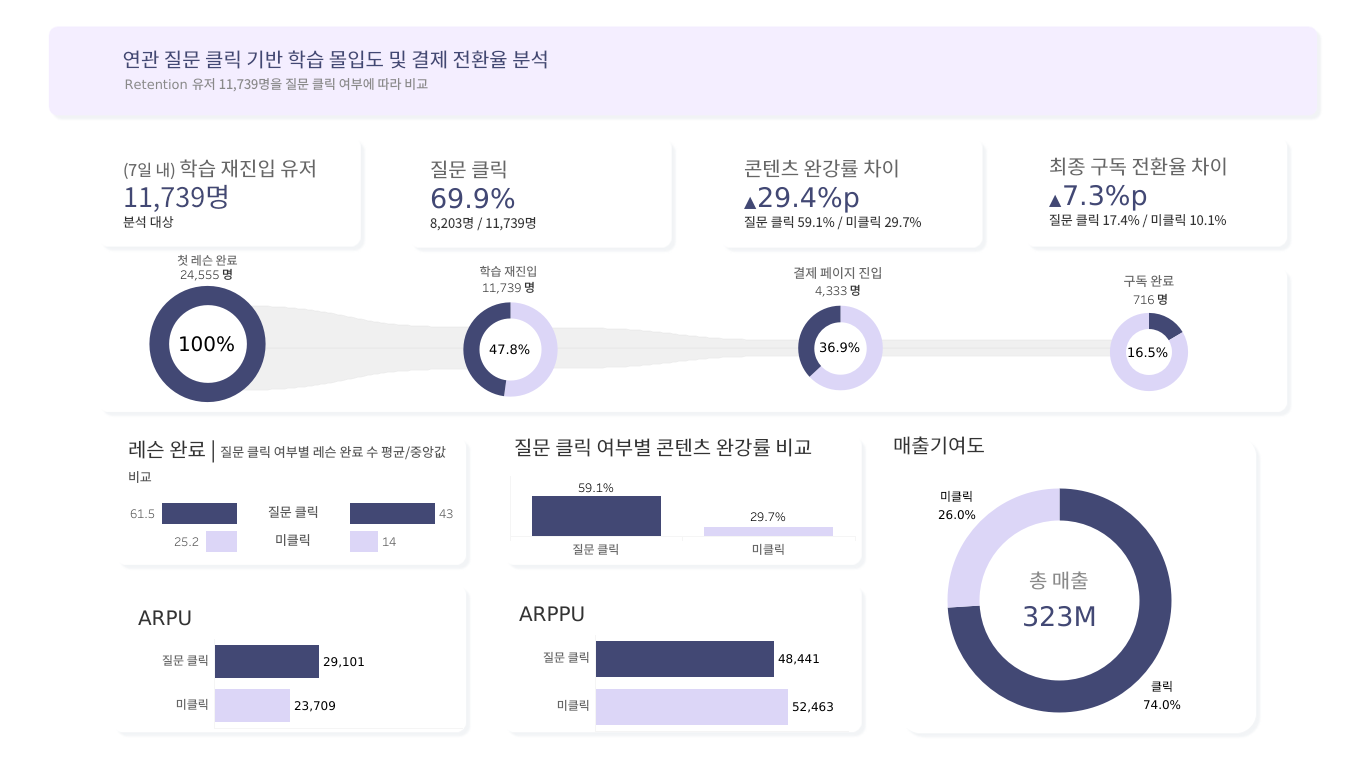

The dashboard page shown, as its layout file describes it:
{"tool":"tableau","page":{"name":"연관 질문 클릭 기반 학습 몰입도 및 결제 전환율 분석 대시보드","canvas":[1366,768],"ordinal":0},"visuals":[{"type":"image","param":"Image/tableau_dashboard_templete.png","box":[8,8,1350,752]},{"type":"text","box":[120,25,594,76]},{"type":"text","box":[122,71,366,30]},{"type":"worksheet","title":"최종 구독 전환율 차이 KPI","mark":"Automatic","box":[1045,155,225,75]},{"type":"worksheet","title":"재진입 유저 KPI","mark":"Automatic","box":[119,157,225,75]},{"type":"worksheet","title":"콘텐츠 완강률 차이 KPI","mark":"Automatic","box":[740,157,225,75]},{"type":"worksheet","title":"질문 클릭율 KPI","mark":"Automatic","box":[426,158,225,75]},{"type":"text","box":[144,245,127,30]},{"type":"text","box":[442,256,133,30]},{"type":"worksheet","title":"첫 레슨 완강 유저 텍스트","mark":"Automatic","box":[153,257,109,35]},{"type":"text","box":[788,258,100,30]},{"type":"text","box":[1099,266,100,30]},{"type":"worksheet","title":"첫 레슨 완강 파이 차트","mark":"Automatic","rows":["Calculation_1214137154441233","Calculation_1214137154441233"],"box":[111,268,193,152]},{"type":"worksheet","title":"학습 재진입 파이 차트","mark":"Automatic","rows":["Calculation_1214137154441233","Calculation_1214137154441233"],"box":[413,269,195,161]},{"type":"worksheet","title":"학습 재진입 유저 텍스트","mark":"Automatic","box":[456,272,107,31]},{"type":"worksheet","title":"결제 페이지 진입 텍스트","mark":"Automatic","box":[790,276,96,28]},{"type":"worksheet","title":"구독 텍스트","mark":"Automatic","box":[1109,286,84,27]},{"type":"worksheet","title":"결제 페이지 진입 파이 차트","mark":"Automatic","rows":["Calculation_1214137154441233","Calculation_1214137154441233"],"box":[753,287,176,122]},{"type":"worksheet","title":"구독 완료 파이 차트","mark":"Automatic","rows":["Calculation_1214137154441233","Calculation_1214137154441233"],"box":[1065,295,168,114]},{"type":"worksheet","title":"퍼널 배경","mark":"Area","cols":["Calculation_1214137152552970"],"box":[133,301,1083,94]},{"type":"worksheet","title":"매출 기여도 파이차트","mark":"Pie","rows":["Calculation_1214137170251803","Calculation_1214137170251803"],"box":[889,428,341,299]},{"type":"worksheet","title":"콘텐츠 완강률 막대","mark":"Automatic","rows":["completed_users"],"cols":["question_status"],"box":[510,430,345,128]},{"type":"worksheet","title":"레슨 완강률 평균/중앙값 막대","mark":"Automatic","rows":["question_status"],"cols":["Calculation_1214137167826968","Calculation_1214137167798295","Calculation_1214137172131868"],"box":[124,432,340,123]},{"type":"worksheet","title":"ARPPU 막대","mark":"Automatic","rows":["question_status"],"cols":["ARPPU (원)"],"box":[515,596,333,135]},{"type":"worksheet","title":"ARPU 막대","mark":"Automatic","rows":["question_status"],"cols":["ARPU (원)"],"box":[134,600,328,128]}]}

Visuals, with their boxes in screenshot pixels (x1, y1, x2, y2), scaled from the page's 1366x768 canvas onto the 1365x767 screenshot:
image: (x1=8, y1=8, x2=1357, y2=759)
text: (x1=120, y1=25, x2=713, y2=101)
text: (x1=122, y1=71, x2=488, y2=101)
"최종 구독 전환율 차이 KPI" worksheet: (x1=1044, y1=155, x2=1269, y2=230)
"재진입 유저 KPI" worksheet: (x1=119, y1=157, x2=344, y2=232)
"콘텐츠 완강률 차이 KPI" worksheet: (x1=739, y1=157, x2=964, y2=232)
"질문 클릭율 KPI" worksheet: (x1=426, y1=158, x2=651, y2=233)
text: (x1=144, y1=245, x2=271, y2=275)
text: (x1=442, y1=256, x2=575, y2=286)
"첫 레슨 완강 유저 텍스트" worksheet: (x1=153, y1=257, x2=262, y2=292)
text: (x1=787, y1=258, x2=887, y2=288)
text: (x1=1098, y1=266, x2=1198, y2=296)
"첫 레슨 완강 파이 차트" worksheet: (x1=111, y1=268, x2=304, y2=419)
"학습 재진입 파이 차트" worksheet: (x1=413, y1=269, x2=608, y2=429)
"학습 재진입 유저 텍스트" worksheet: (x1=456, y1=272, x2=563, y2=303)
"결제 페이지 진입 텍스트" worksheet: (x1=789, y1=276, x2=885, y2=304)
"구독 텍스트" worksheet: (x1=1108, y1=286, x2=1192, y2=313)
"결제 페이지 진입 파이 차트" worksheet: (x1=752, y1=287, x2=928, y2=408)
"구독 완료 파이 차트" worksheet: (x1=1064, y1=295, x2=1232, y2=408)
"퍼널 배경" worksheet (Area marks): (x1=133, y1=301, x2=1215, y2=394)
"매출 기여도 파이차트" worksheet (Pie marks): (x1=888, y1=427, x2=1229, y2=726)
"콘텐츠 완강률 막대" worksheet: (x1=510, y1=429, x2=854, y2=557)
"레슨 완강률 평균/중앙값 막대" worksheet: (x1=124, y1=431, x2=464, y2=554)
"ARPPU 막대" worksheet: (x1=515, y1=595, x2=847, y2=730)
"ARPU 막대" worksheet: (x1=134, y1=599, x2=462, y2=727)
